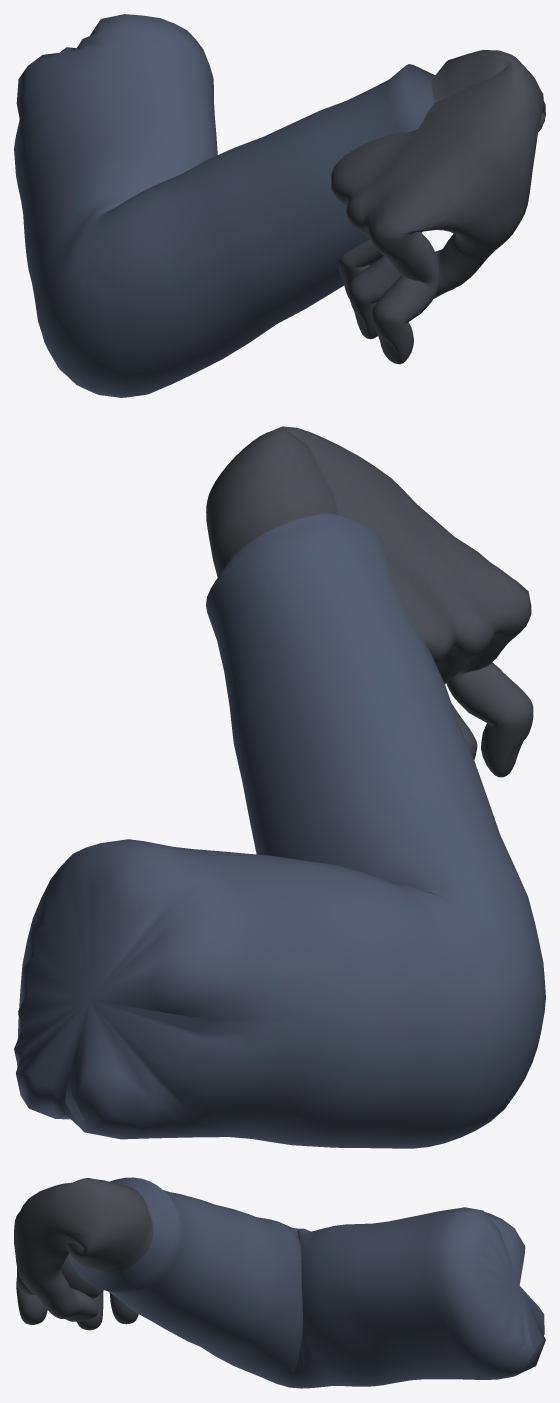
The model's file is muhafiz_knife.fbx.
3 views of the same model, one above another, from view 1: azimuth 30°, elevation 25°; view 2: azimuth 150°, elevation 25°; view 3: azimuth 270°, elevation 25° (orthographic). The views are drawn at different scales.
Parts seen in each view (by area): view 1: RightArm; view 2: RightArm; view 3: RightArm.
Boxes of the visible parts, x1=… form: RightArm: x1=14, y1=14, x2=545, y2=397; RightArm: x1=14, y1=426, x2=545, y2=1148; RightArm: x1=14, y1=1177, x2=545, y2=1388.
Bounding box in the file's own units: 0.2225 × 0.2188 × 0.3544.
